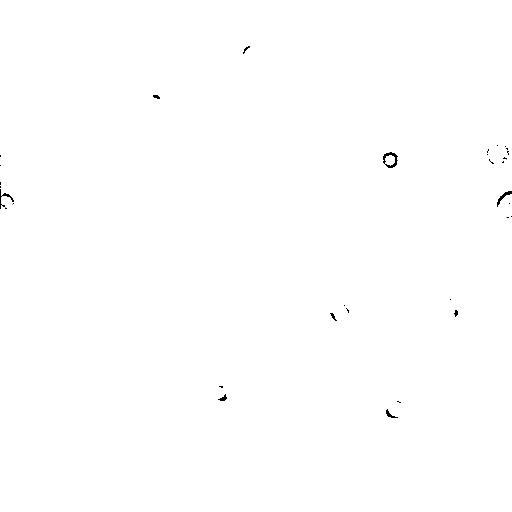micro-algae: (275, 284, 395, 405), (385, 77, 476, 165), (471, 331, 511, 400), (374, 20, 424, 61), (435, 299, 466, 329), (203, 173, 230, 205), (278, 481, 310, 506), (483, 138, 511, 166), (241, 43, 262, 68), (495, 187, 511, 218), (330, 301, 350, 323), (383, 399, 407, 417), (176, 425, 195, 445), (206, 383, 227, 401), (379, 151, 399, 169), (180, 177, 196, 191), (2, 192, 15, 209)
